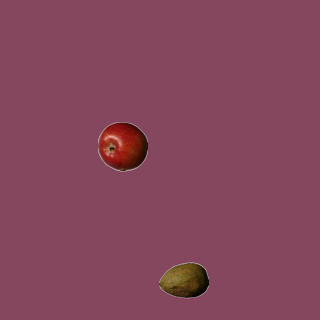Apple Braeburn: (97, 121, 147, 171)
Papaya: (158, 255, 208, 305)
